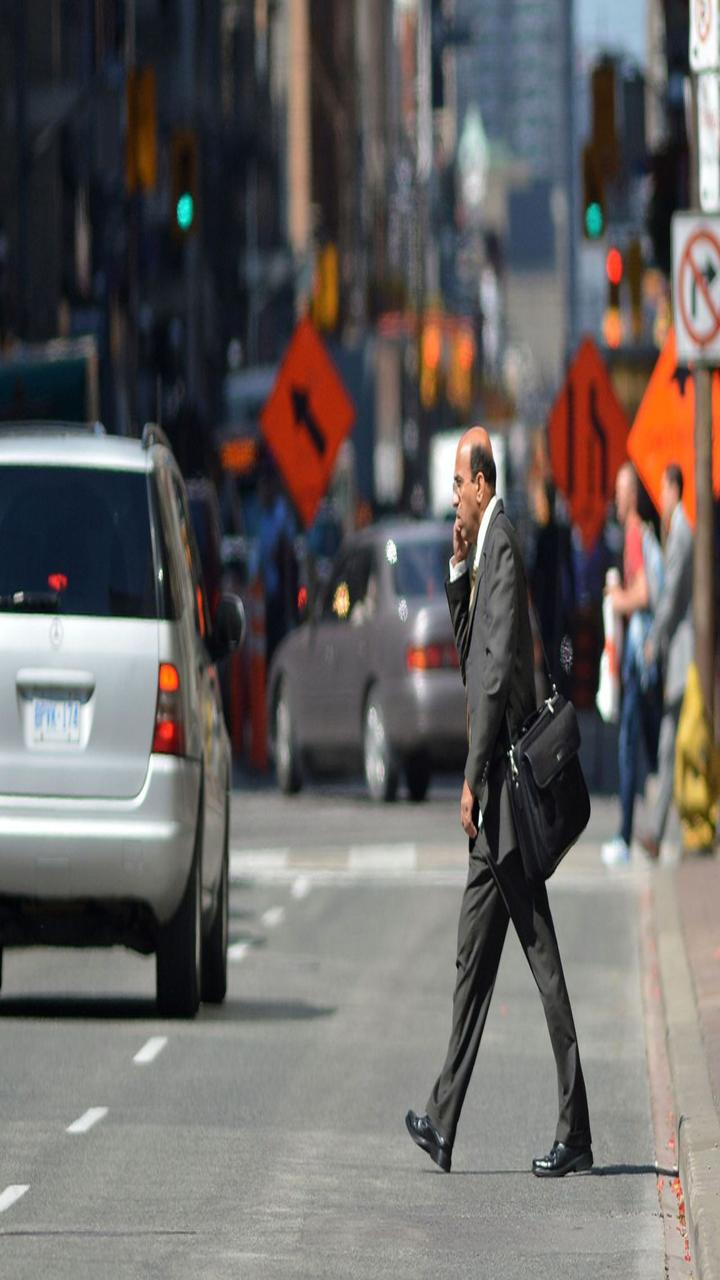Traffic sign: (664, 203, 720, 349)
pedestrian: (390, 413, 631, 1192)
vehicle: (1, 423, 262, 1041)
